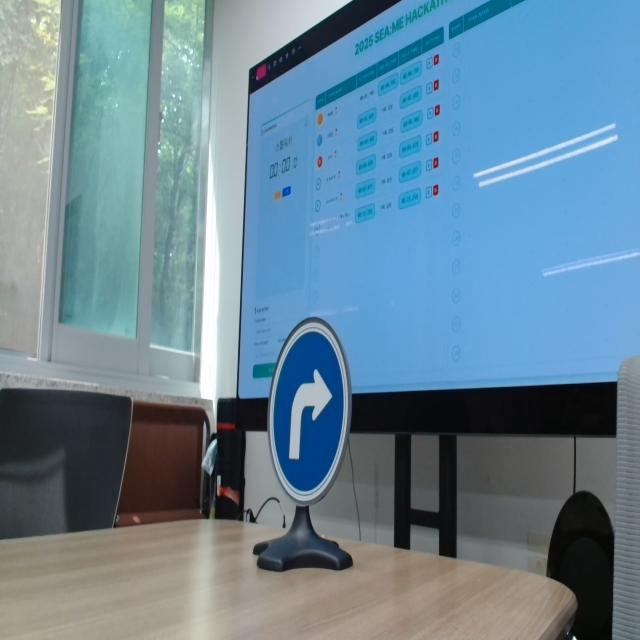right_dierection: (258, 302, 366, 511)
